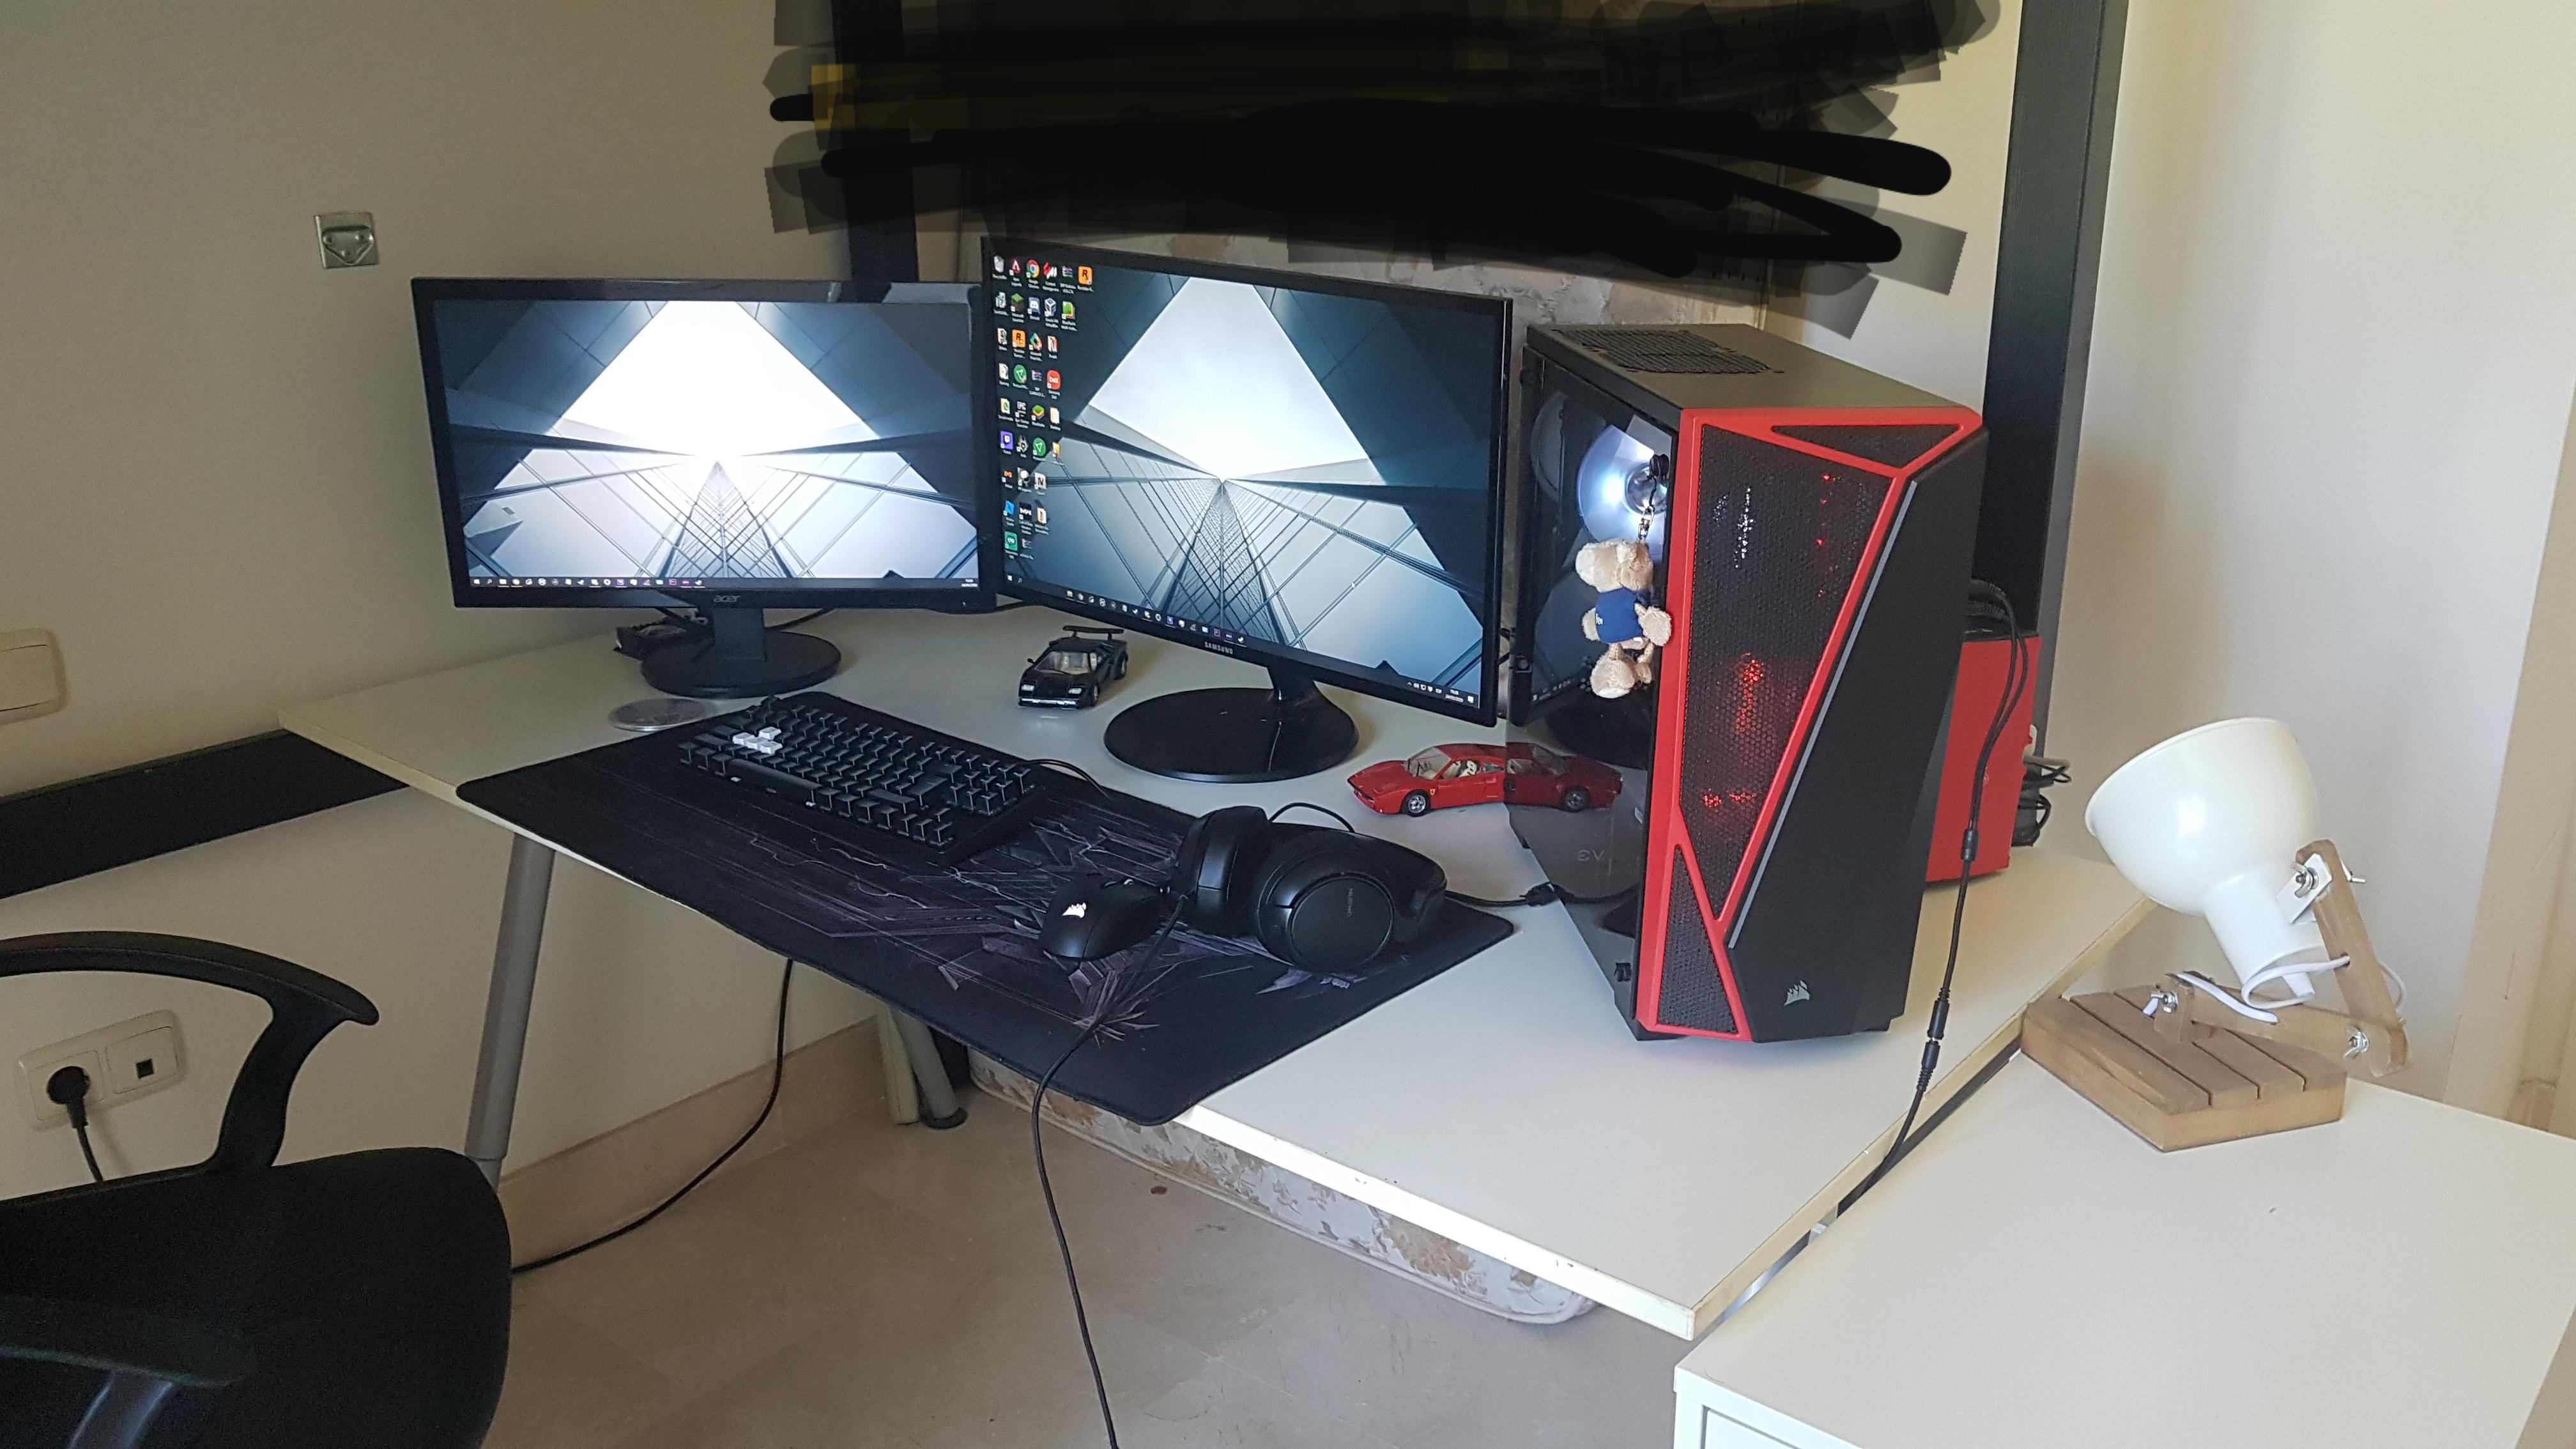Chair (Generic): (2, 918, 513, 1447)
Decoration (Miniature): (1341, 734, 1513, 821), (1012, 625, 1129, 725)
Desk (Generic): (303, 582, 2148, 1449)
Desktop (Windows): (1520, 311, 1996, 1049)
Headphones: (1161, 800, 1453, 977)
Keyboard (Gaming): (658, 699, 1056, 867)
Lamp (Desk): (2001, 713, 2408, 1159)
Monitor (Landscape): (977, 249, 1520, 784), (407, 269, 989, 690)
Mouse (Gaming): (1037, 869, 1164, 959)
Mousepad (Gaming): (453, 686, 1509, 1118)
Storage Drawer: (1665, 1023, 2576, 1449)
